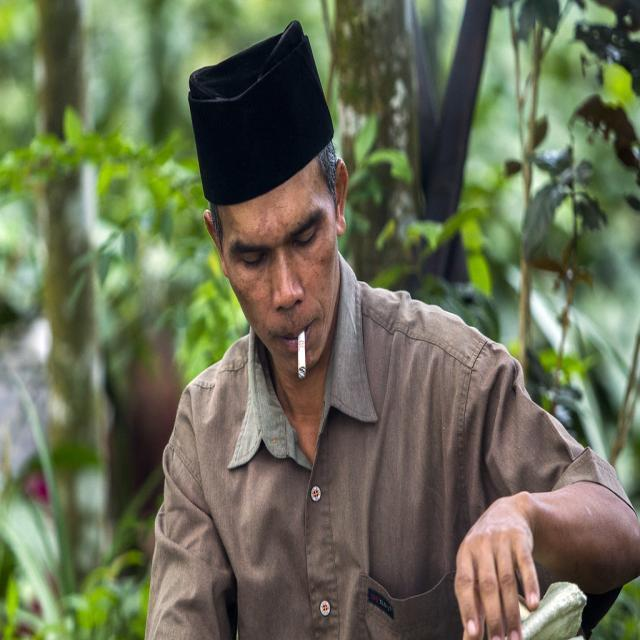rokok: (293, 328, 311, 378)
